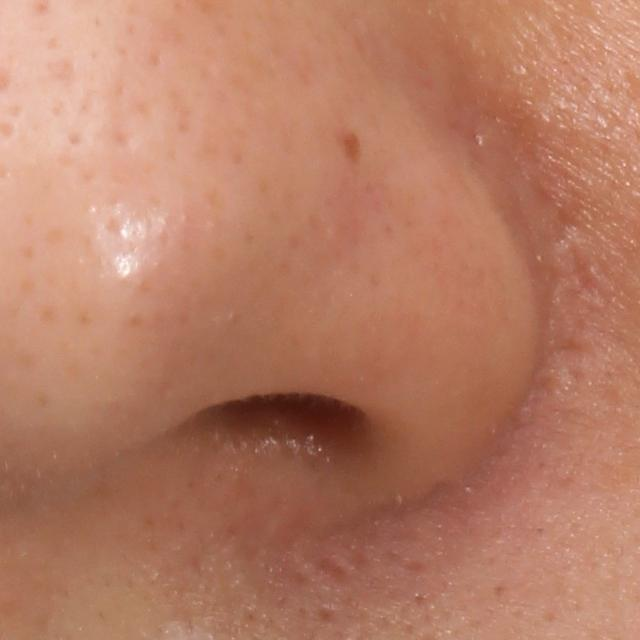atrophic_scar: (563, 245, 603, 305), (302, 546, 354, 580)
melasma: (334, 120, 365, 167)
